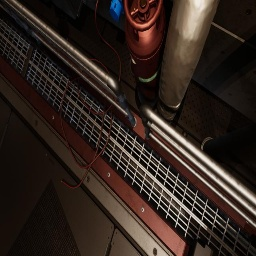NitrogenTank ,: (123, 0, 165, 107)
